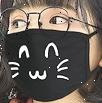with_mask: (1, 1, 102, 103)
